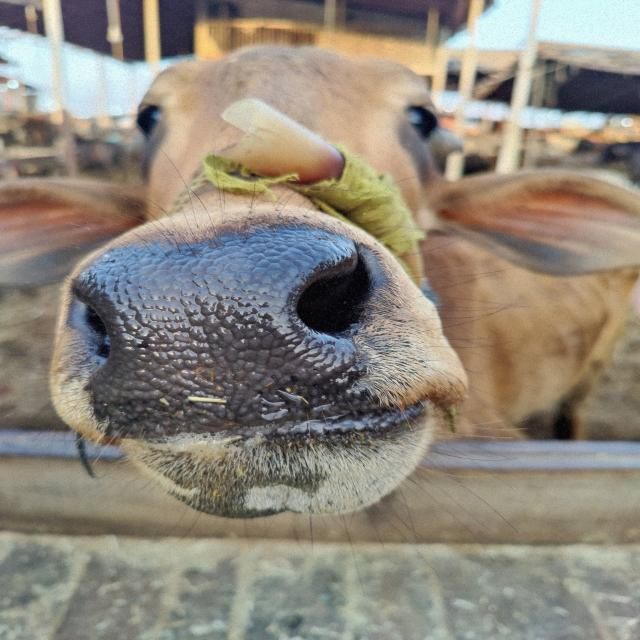muzzles: (58, 222, 395, 440)
